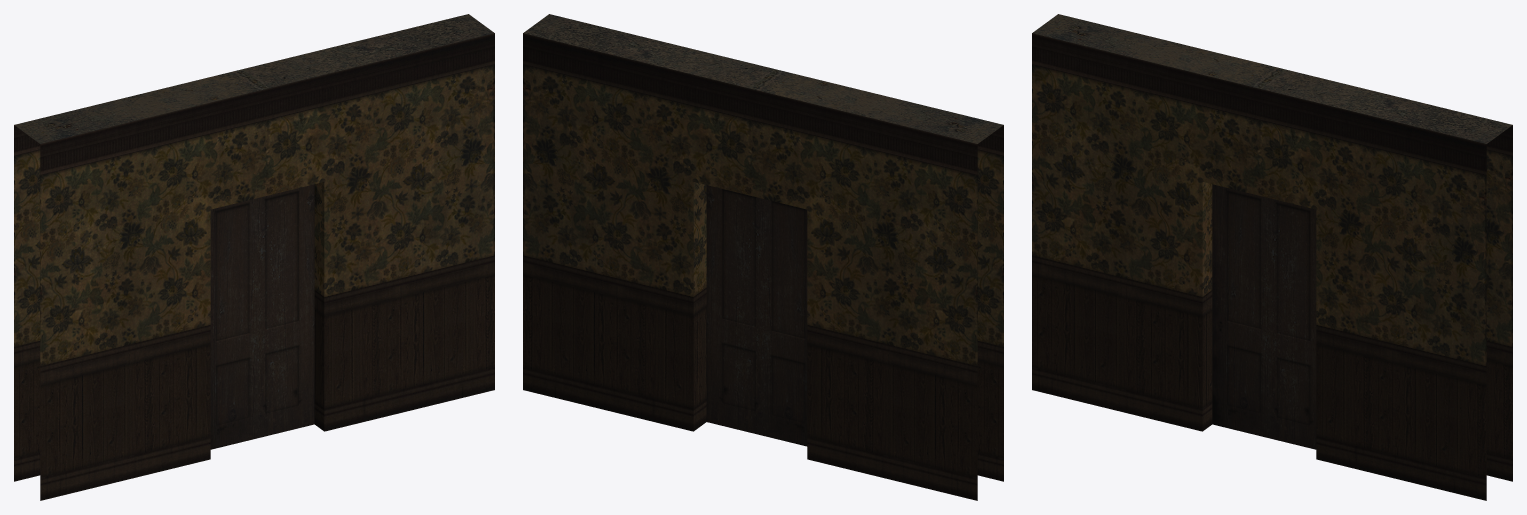
Rendered from doorway_rx_1.obj.
3 views of the same model, side by side, from view 1: azimuth 30°, elevation 25°; view 2: azimuth 150°, elevation 25°; view 3: azimuth 330°, elevation 25° (orthographic).
Parts seen in each view (by area): view 1: doorway_rx_1, door_hr_12; view 2: doorway_rx_1, door_hr_12; view 3: doorway_rx_1, door_hr_12.
Boxes of the visible parts, box(x1,y1,x2,y2) form: doorway_rx_1: box(14, 14, 494, 500); door_hr_12: box(210, 184, 314, 449); doorway_rx_1: box(523, 14, 1003, 500); door_hr_12: box(706, 185, 807, 446); doorway_rx_1: box(1032, 14, 1512, 500); door_hr_12: box(1212, 184, 1316, 449).
Bounding box in the file's own units: 4 × 3 × 0.4.
